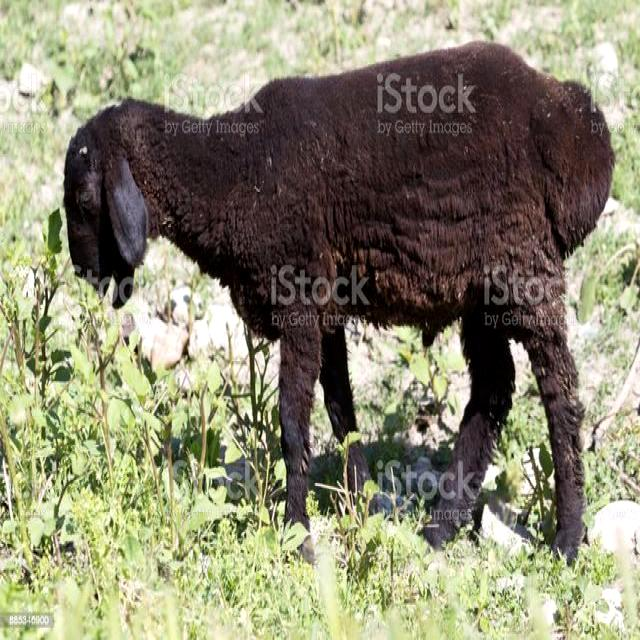sheep: (63, 37, 612, 561)
